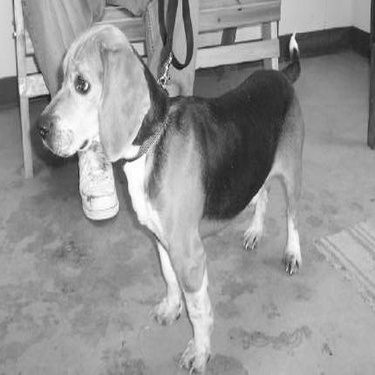dog: (28, 19, 305, 373)
